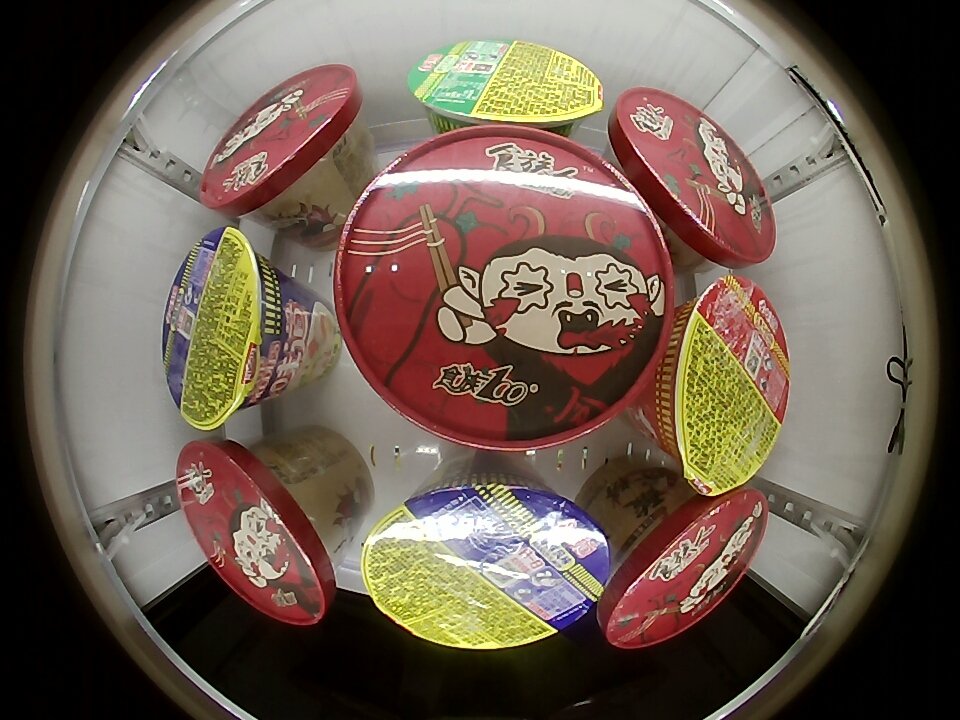heweidao: (361, 467, 610, 650), (162, 225, 294, 431)
heweidao2: (406, 38, 605, 137)
heweidao3: (653, 274, 790, 498)
suanlafen: (333, 124, 674, 454), (176, 438, 341, 625), (608, 88, 776, 268), (599, 489, 768, 648), (201, 64, 362, 218)
